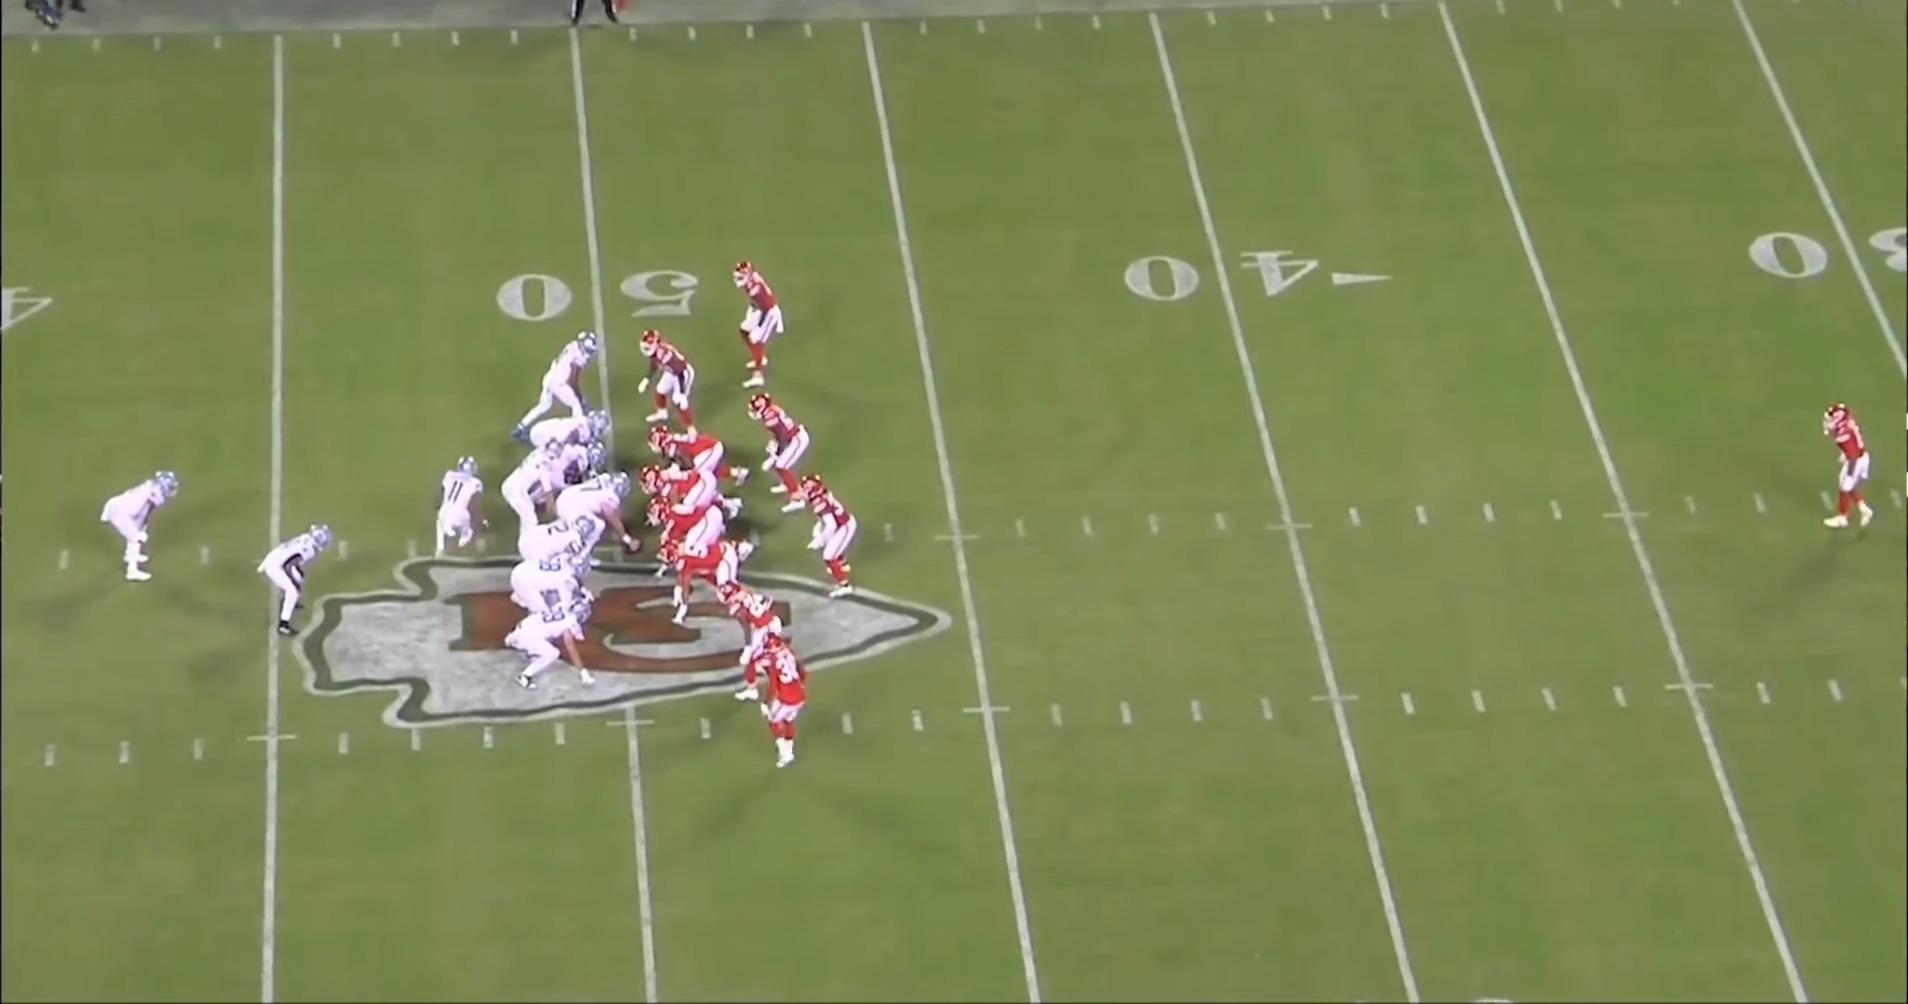defense: (794, 477, 863, 608), (1818, 397, 1884, 535), (654, 493, 752, 581), (747, 396, 818, 517), (660, 541, 760, 627), (731, 257, 790, 395), (717, 580, 784, 700), (751, 632, 805, 774), (633, 328, 698, 436), (659, 428, 757, 492), (644, 465, 746, 523)
oline: (510, 552, 599, 651), (551, 468, 640, 565), (515, 513, 596, 581), (521, 414, 603, 465), (534, 439, 609, 491)
qb: (507, 444, 574, 556)
ref: (38, 1, 92, 34)
skill: (105, 463, 192, 588), (515, 323, 609, 438), (260, 522, 342, 642), (511, 592, 603, 698), (425, 453, 482, 565)
